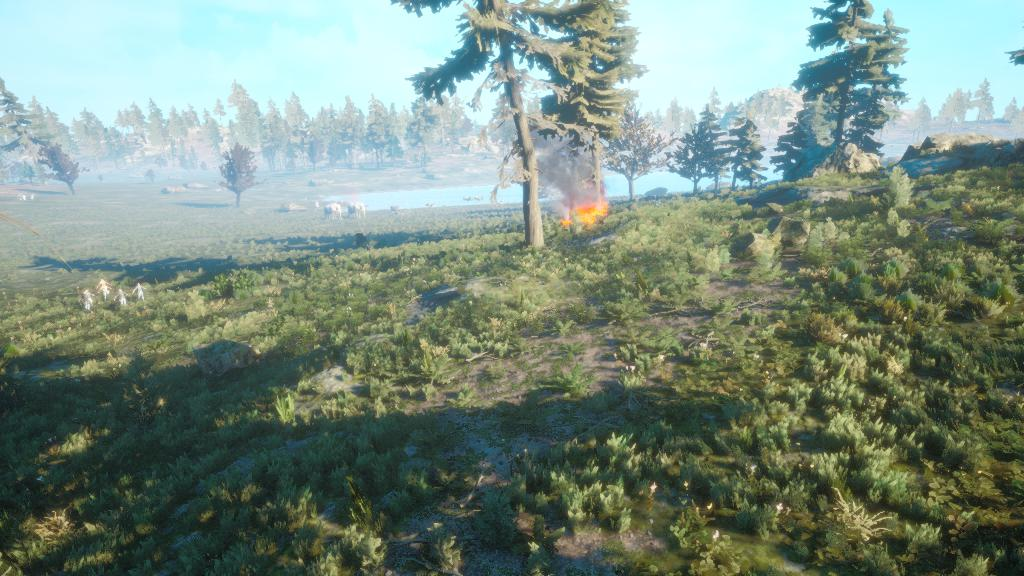elephant: (317, 195, 376, 229)
human: (70, 267, 155, 322)
